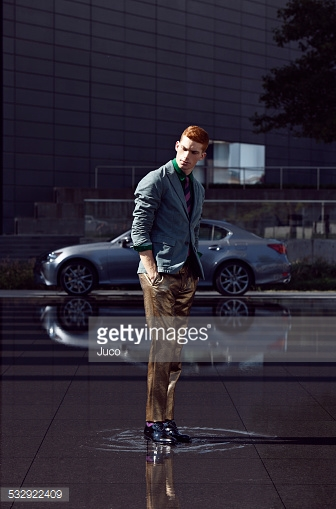em pe: (119, 118, 216, 364)
